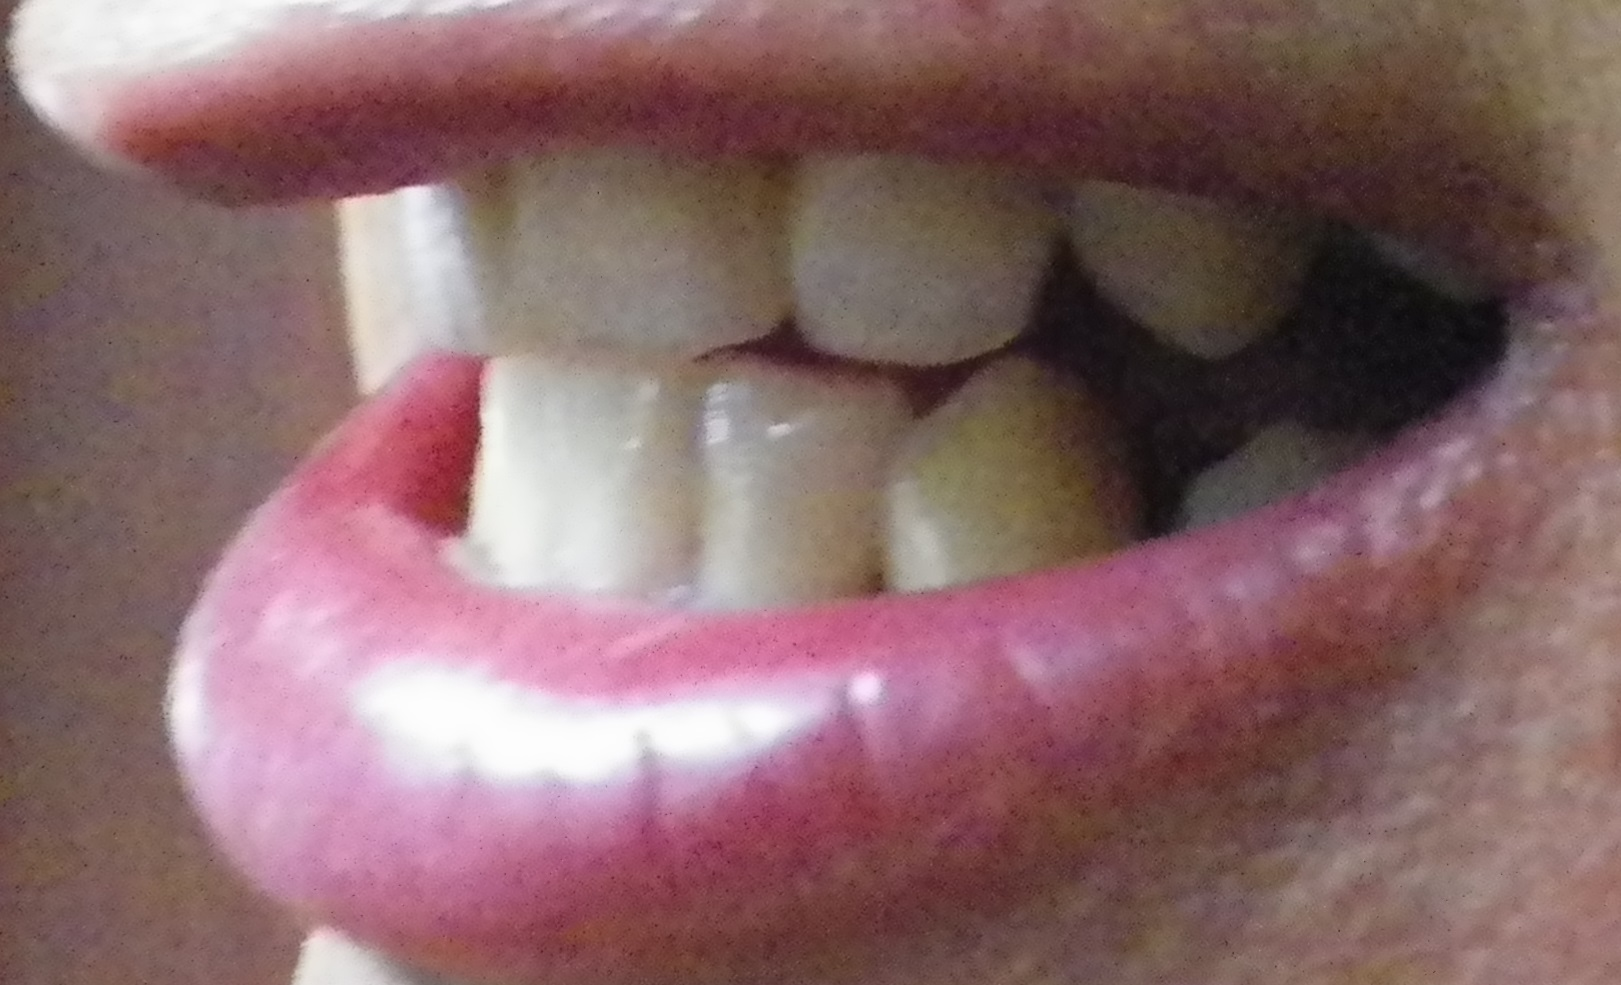boca: (416, 175, 1354, 619)
